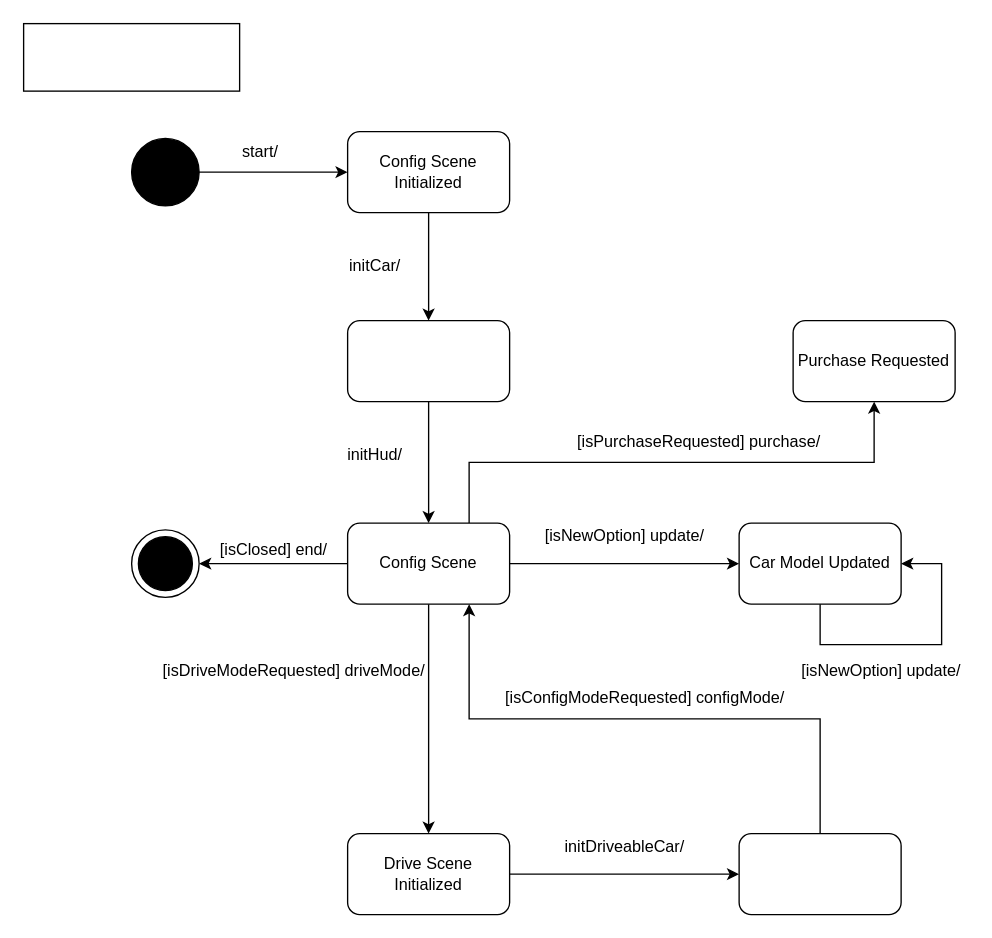
The diagram is 992 pixels wide and 938 high, and some of its shapes have lost their labels. Each missing label, with the box of its shape:
[state machine] Car Configurator: (22, 22, 240, 91)
Car Model Initialized: (346, 319, 510, 402)
Set Car to be driveable: (738, 832, 901, 915)
